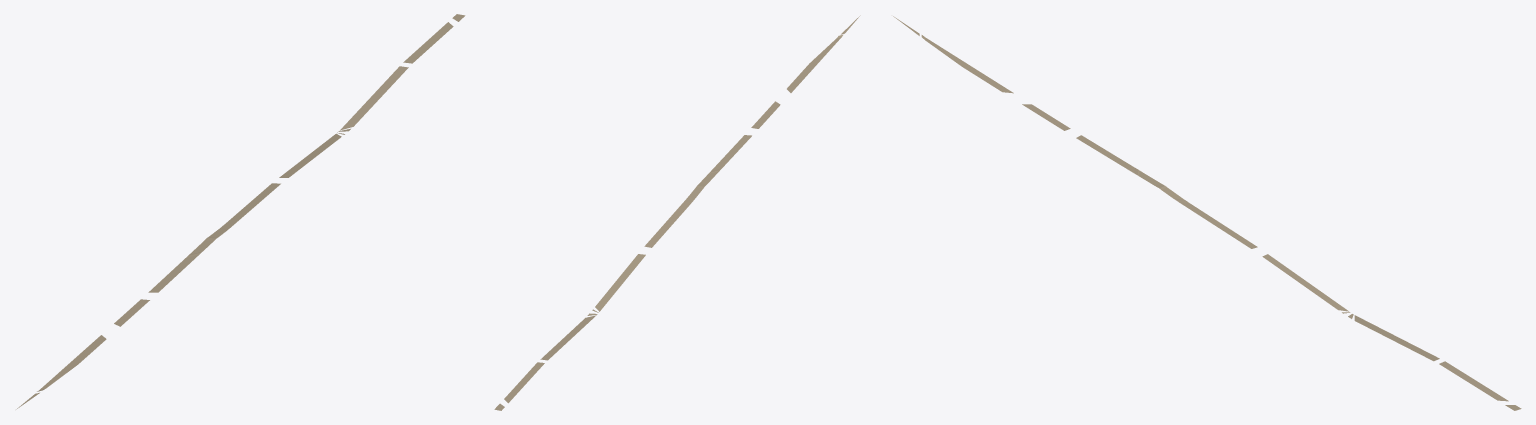
Rendered from farm_21_23_track.glb.
3 views of the same model, side by side, from view 1: azimuth 30°, elevation 25°; view 2: azimuth 210°, elevation 25°; view 3: azimuth 270°, elevation 25° (orthographic). The views are drawn at different scales.
Parts seen in each view (by area): view 1: geometry_0; view 2: geometry_0; view 3: geometry_0.
Boxes of the visible parts, left/top/right/bottom form: geometry_0: left=16, top=14, right=465, bottom=409; geometry_0: left=494, top=15, right=860, bottom=410; geometry_0: left=893, top=16, right=1521, bottom=410.
Size of the model in its own units: 311 by 16.98 by 233.
